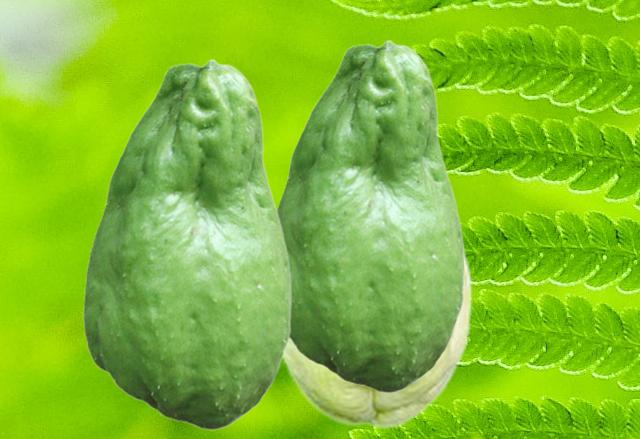sayote: (82, 58, 291, 429), (276, 39, 464, 392), (282, 238, 471, 428)
